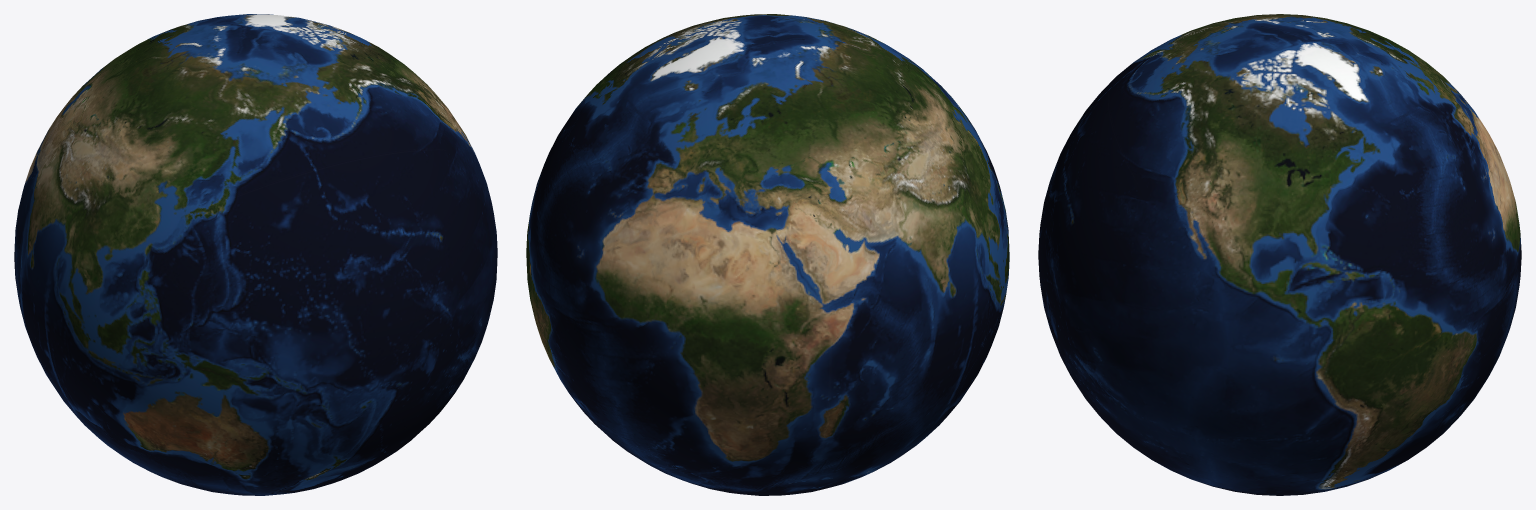
File: Earth.gltf
The picture shows the model from 3 angles, left to right: view 1: azimuth 30°, elevation 25°; view 2: azimuth 150°, elevation 25°; view 3: azimuth 270°, elevation 25°; orthographic projection.
Parts seen in each view (by area): view 1: Cube.001; view 2: Cube.001; view 3: Cube.001.
Part boxes in pixels (x1,y1,x2,y2): Cube.001: (14,14,497,495); Cube.001: (526,14,1009,495); Cube.001: (1038,14,1521,495).
Size of the model in its own units: 1000 by 997 by 1000.
Materials: 1 (1 with a texture image).
